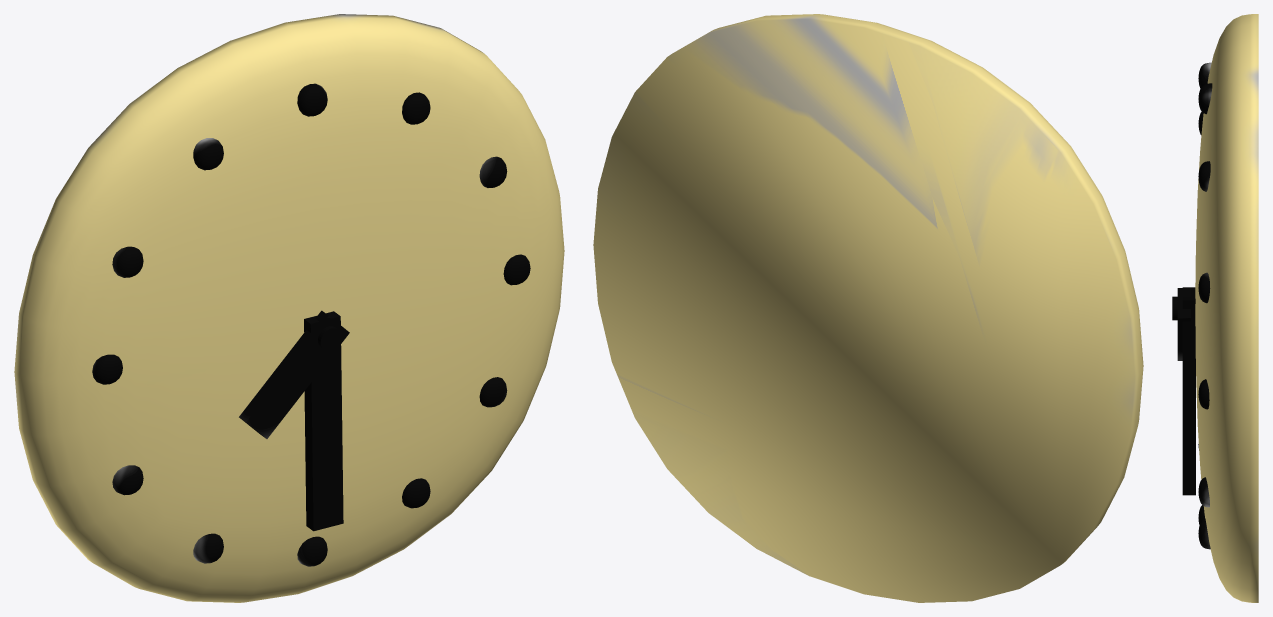
File: FloorClockComplete.fbx
The picture shows the model from 3 angles, left to right: view 1: azimuth 30°, elevation 25°; view 2: azimuth 150°, elevation 25°; view 3: azimuth 270°, elevation 25°; orthographic projection. The views are drawn at different scales.
Parts seen in each view (by area): view 1: ClockFace, TimeDots, MinutesHand, hoursHand; view 2: ClockFace; view 3: ClockFace, MinutesHand, TimeDots, hoursHand.
Boxes of the visible parts, x1,y1,x2,y2 form: ClockFace: [14, 14, 564, 602]; TimeDots: [92, 83, 530, 566]; MinutesHand: [304, 311, 343, 531]; hoursHand: [239, 310, 349, 438]; ClockFace: [593, 14, 1143, 602]; ClockFace: [1195, 14, 1258, 602]; MinutesHand: [1182, 287, 1195, 495]; TimeDots: [1172, 62, 1212, 549]; hoursHand: [1177, 288, 1190, 360].
Size of the model in its own units: 183 by 183 by 27.27.
2 materials, 2 textured.
